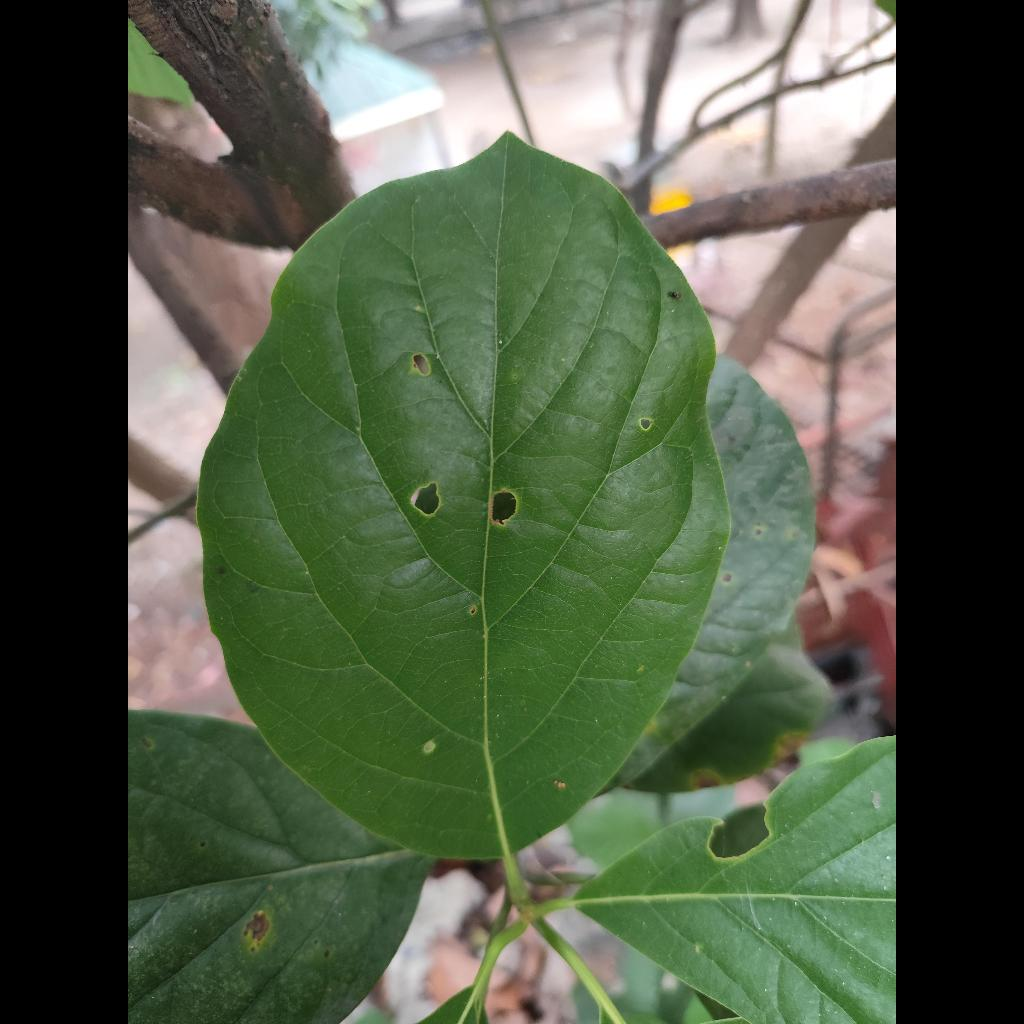Pest Infested: (198, 136, 728, 858)
